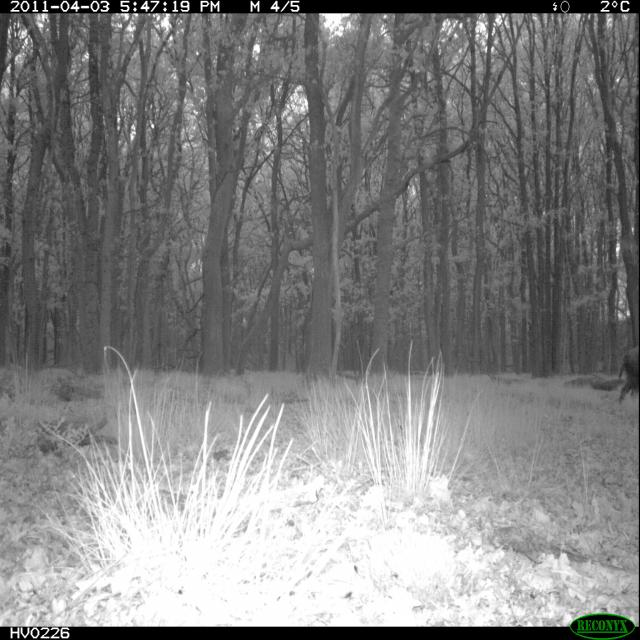boar: (607, 318, 640, 415)
